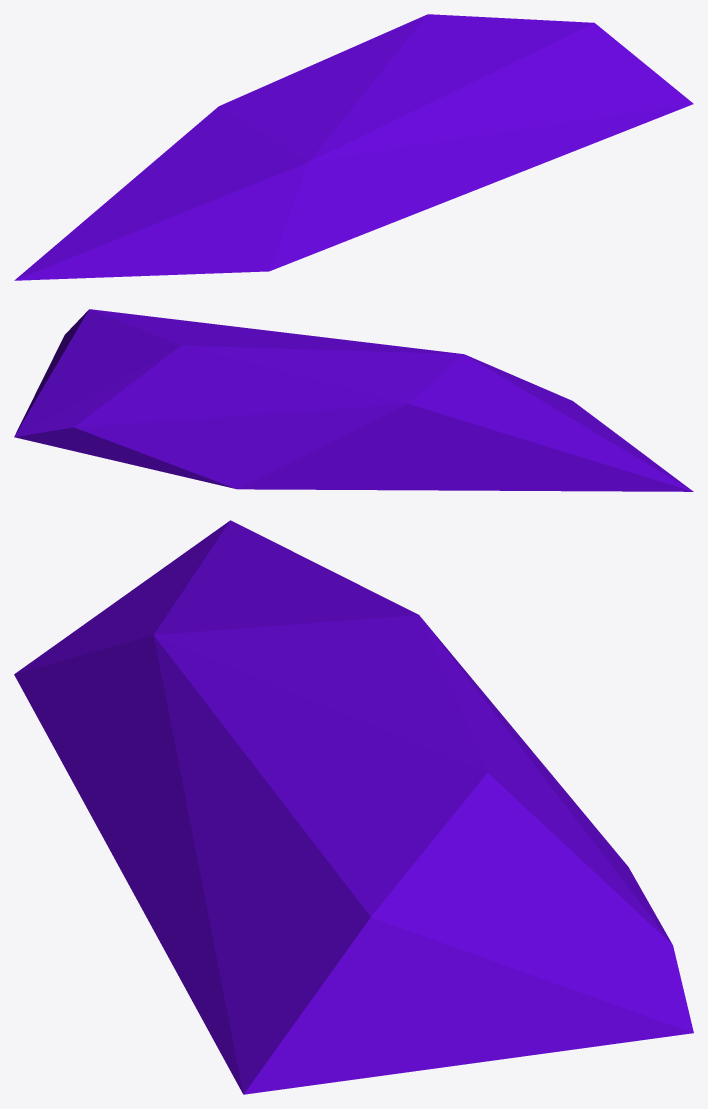
File: arm-L4_convex_piece_020.obj
The picture shows the model from 3 angles, top to bottom: view 1: azimuth 30°, elevation 25°; view 2: azimuth 150°, elevation 25°; view 3: azimuth 270°, elevation 25°; orthographic projection. The views are drawn at different scales.
Size of the model in its own units: 0.0506 by 0.00728 by 0.0247.
